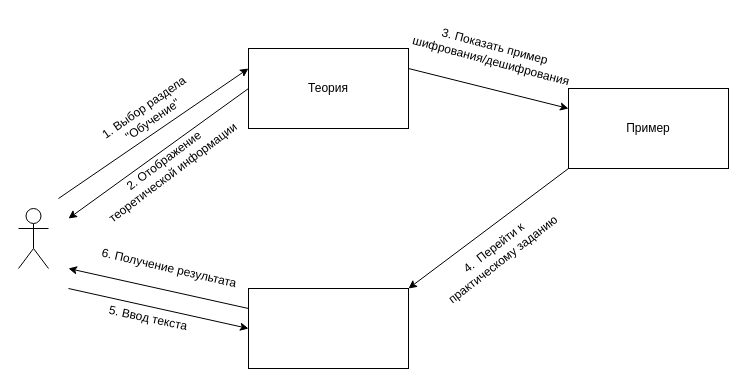
Image size: 746x386. Some labels were removed from this diagram. The centre of each missing label's shape, as x and y in pixels:
Игрок: point (33, 238)
Практическое задание: point (328, 328)
